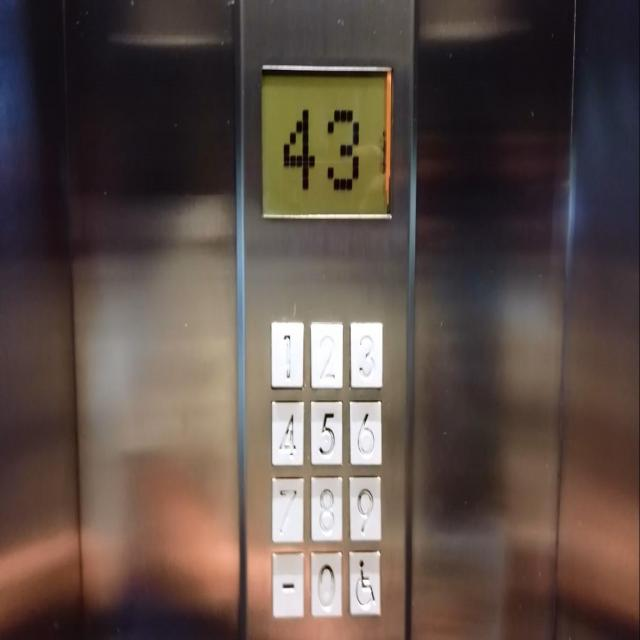-: (270, 547, 306, 621)
0: (308, 546, 344, 619)
1: (268, 318, 306, 392)
2: (308, 317, 346, 391)
3: (348, 317, 385, 390)
4: (269, 395, 306, 468)
5: (308, 395, 345, 468)
6: (346, 394, 383, 468)
7: (269, 472, 306, 546)
8: (308, 471, 344, 544)
9: (346, 470, 383, 543)
CH: (346, 545, 382, 618)
led: (257, 58, 394, 224)
